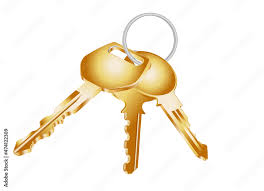key: (9, 40, 154, 160), (119, 44, 210, 162), (103, 51, 161, 181)
